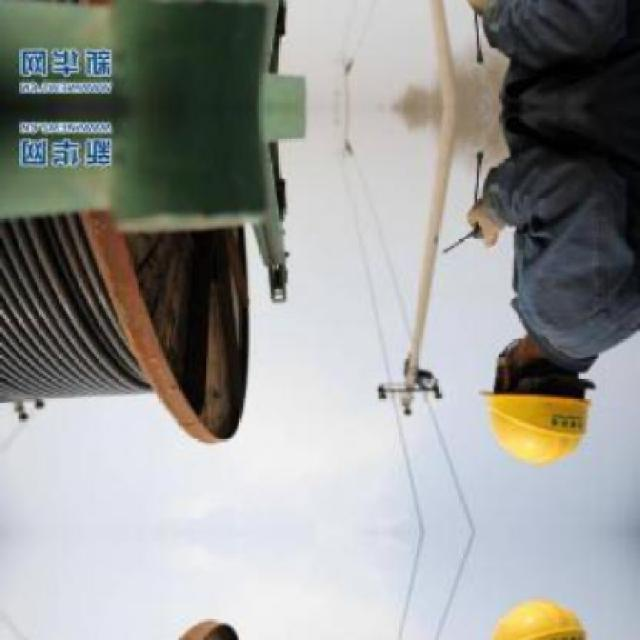con casco: (467, 295, 636, 474)
